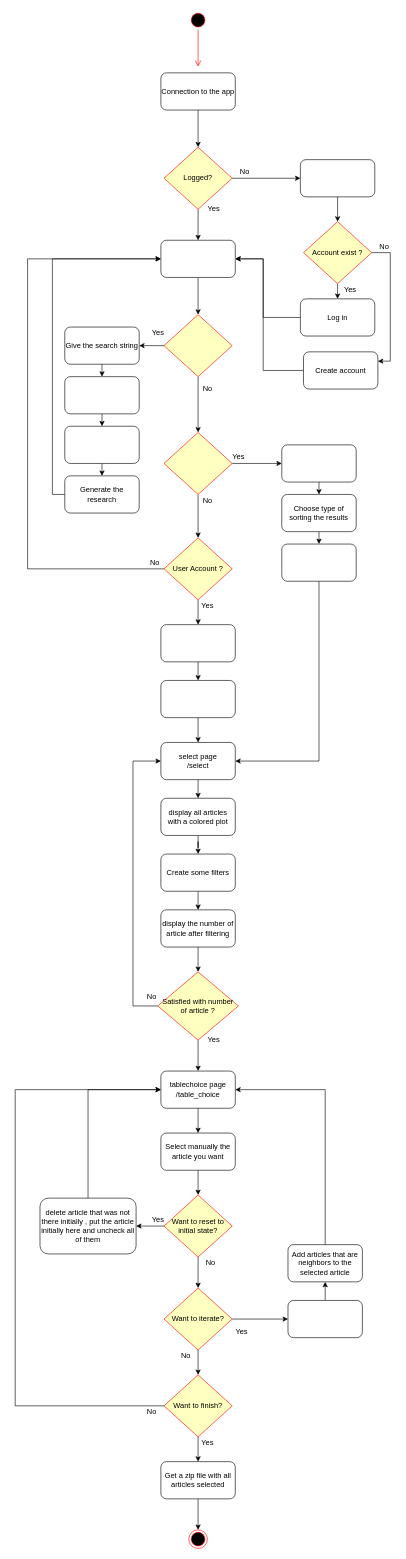
The diagram is 406 pixels wide and 1559 high, and some of its shapes have lost their labels. The centre of each missing label's shape, as x and y in pixels:
Accueil page /accueil: the point at 197,258
Check the number of articles: the point at 101,444
Check the progress of the research: the point at 197,643
Choose one of the ancient research: the point at 197,699
Choose one of the ancient research and push the link: the point at 318,562
Delete all article not selected: the point at 324,1319
Give interval of date: the point at 101,395
Give Keywords: the point at 318,463
Historical Research?: the point at 197,463
Login page /login: the point at 337,178
New reasearch?: the point at 197,345
